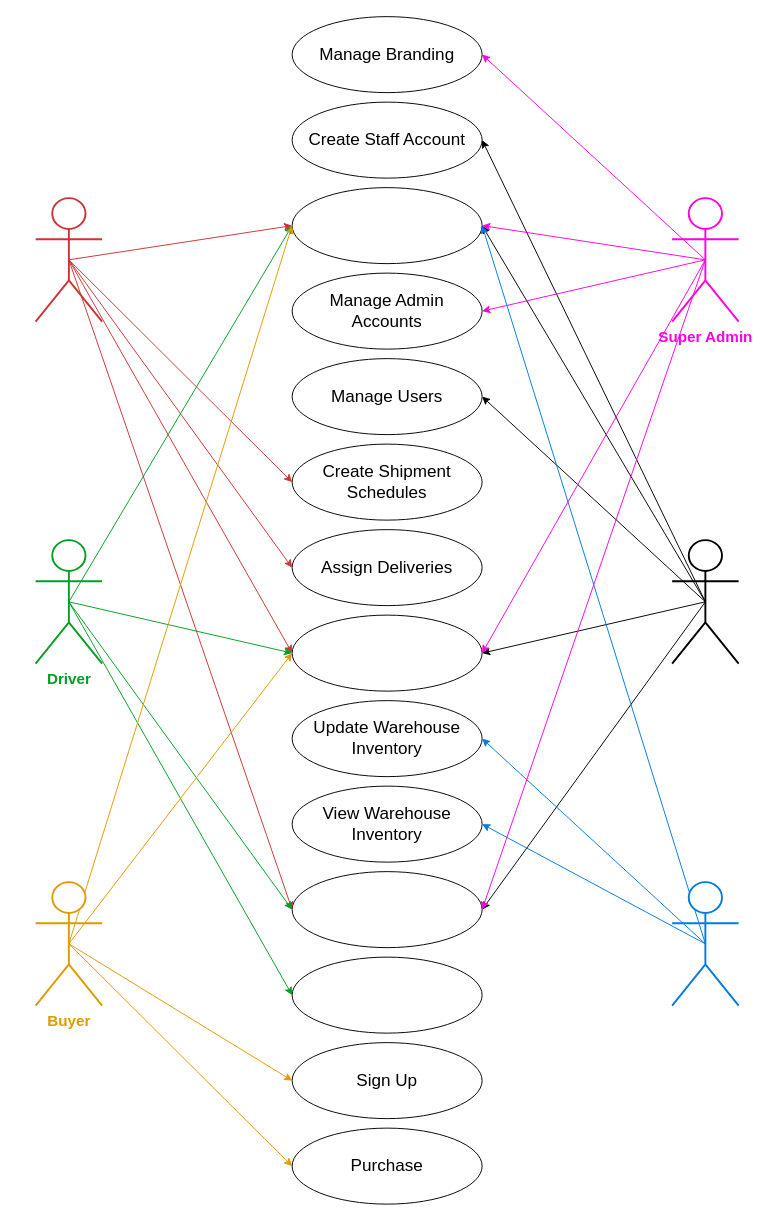
This 769x1221 diagram has some shape labels left out. Here are the shapes that lost their labels. From the top down, the centre of each, then its label:
At pixel 386 225: "Login".
At pixel 68 259: "Logistics Staff".
At pixel 705 601: "Admin".
At pixel 386 652: "View Shipment and Delivery Reports".
At pixel 386 909: "View Assigned Deliveries".
At pixel 705 943: "Warehouse Staff".
At pixel 386 994: "Update Delivery Status".
